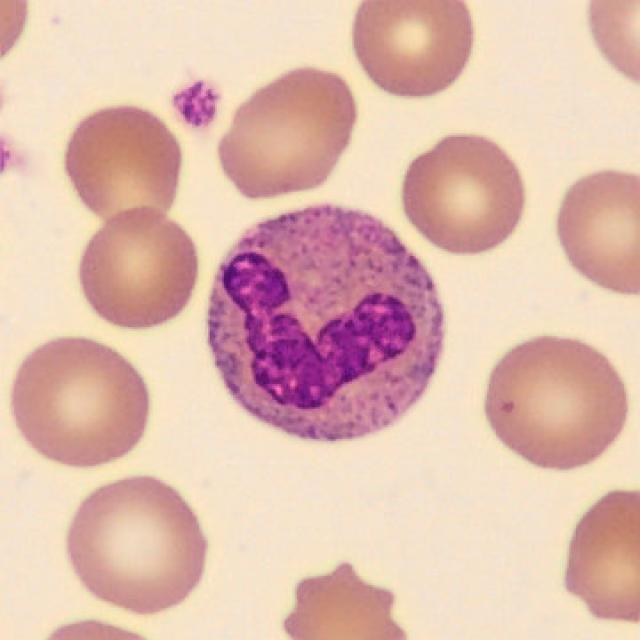Neutrofilo segmentado: (206, 206, 446, 443)
